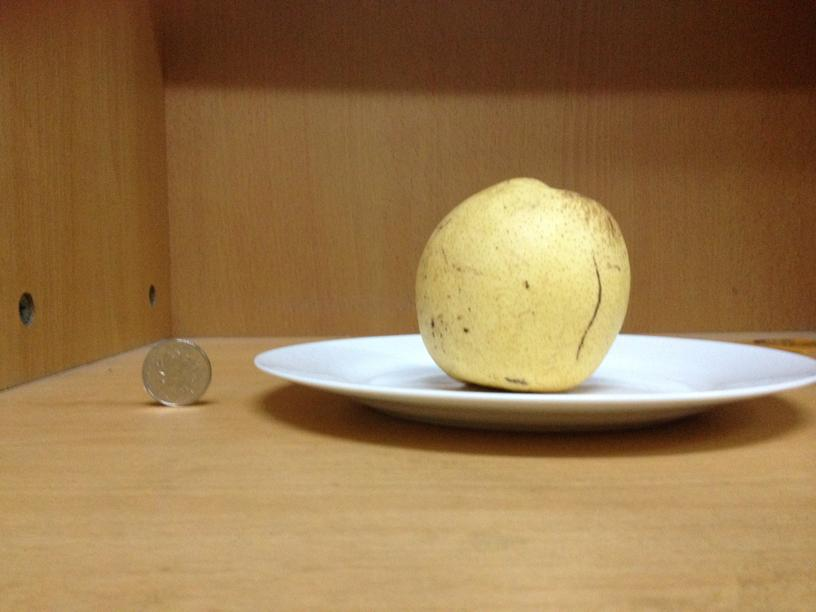coin: (138, 336, 214, 408)
pear: (411, 173, 630, 389)
